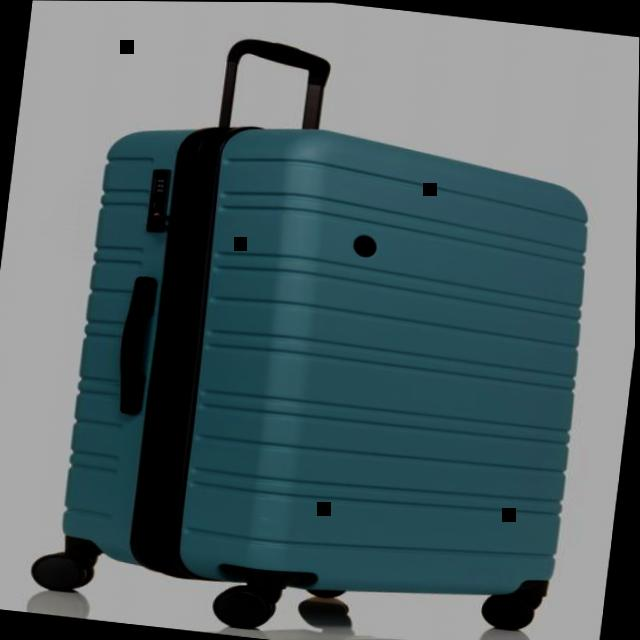luggage: (29, 96, 632, 640)
